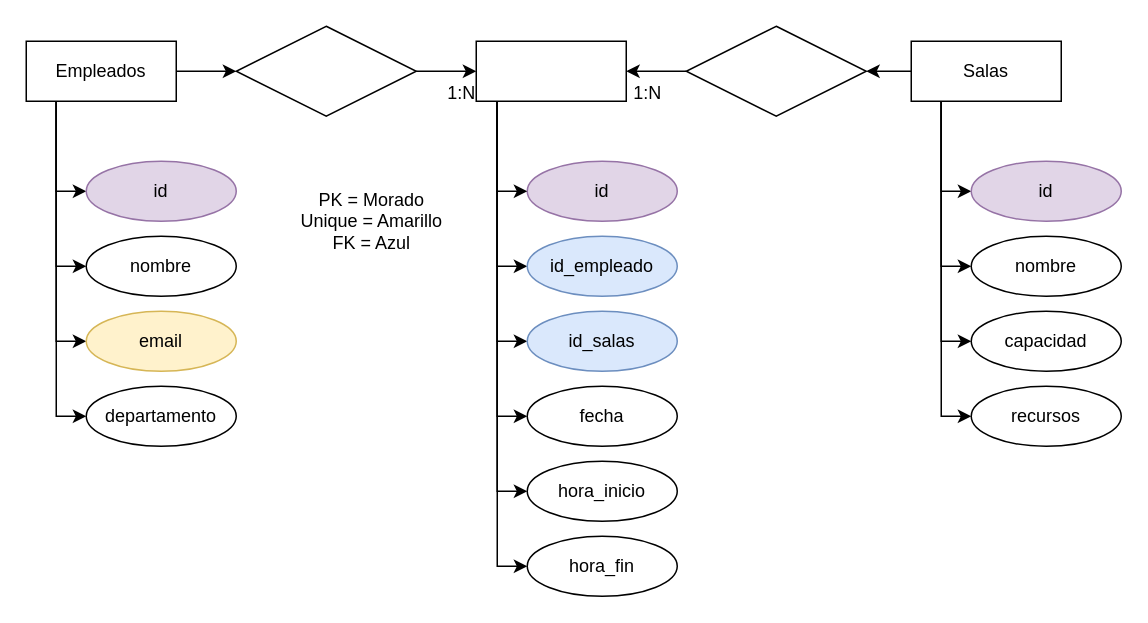
Image size: 1148x623. Some labels were removed from this diagram. Here are the shapes that lost their labels. From the top down, the box of each, then its label:
(235, 25, 416, 116): Hacen
(475, 40, 626, 101): Reservas
(685, 25, 866, 116): Tienen
